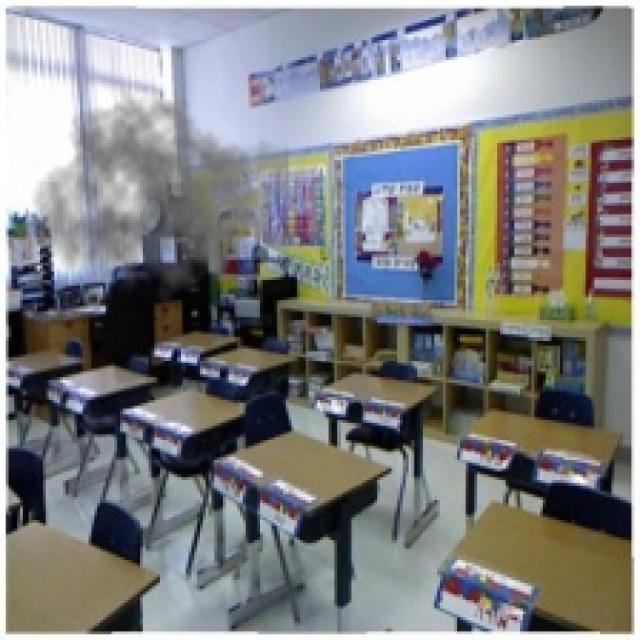smoke: (32, 86, 288, 317)
